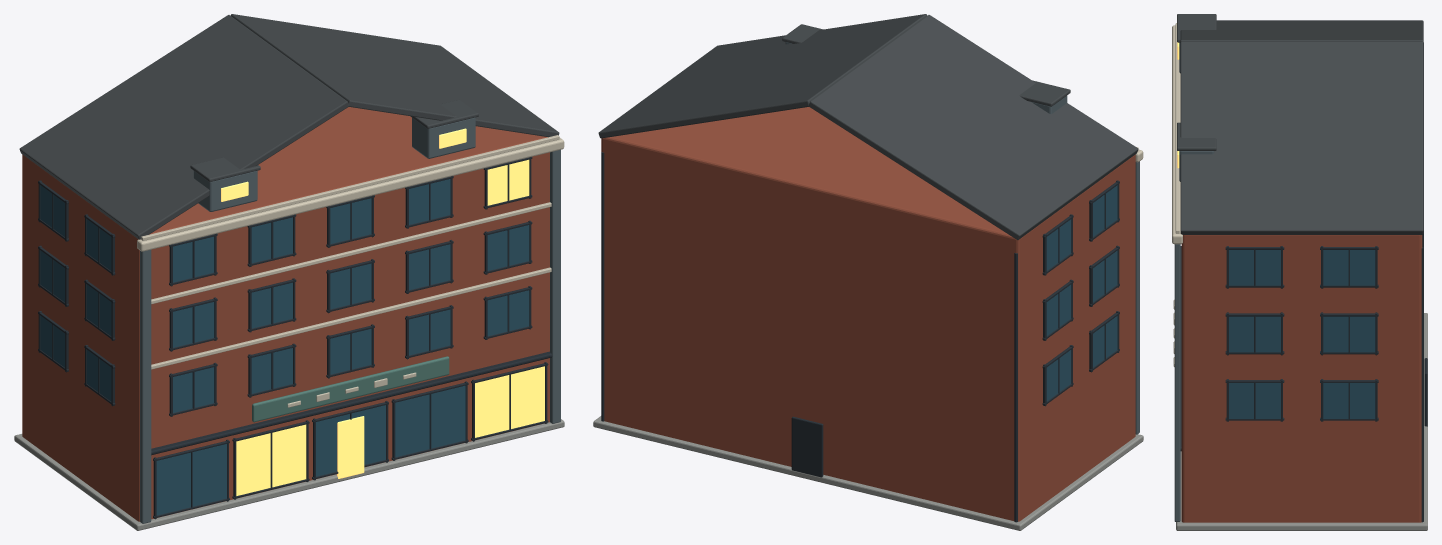
File: rorng_city_storefront_gabled_20x10.glb
The picture shows the model from 3 angles, left to right: view 1: azimuth 30°, elevation 25°; view 2: azimuth 150°, elevation 25°; view 3: azimuth 270°, elevation 25°; orthographic projection.
Parts seen in each view (by area): view 1: rorng_city_storefront_gabled_20x10_lod0; view 2: rorng_city_storefront_gabled_20x10_lod0; view 3: rorng_city_storefront_gabled_20x10_lod0.
Boxes of the visible parts, left/top/right/bottom form: rorng_city_storefront_gabled_20x10_lod0: left=14, top=14, right=564, bottom=530; rorng_city_storefront_gabled_20x10_lod0: left=593, top=14, right=1143, bottom=530; rorng_city_storefront_gabled_20x10_lod0: left=1172, top=14, right=1427, bottom=530.
Size of what is drawn, in the model's own units: 20.01 by 16.83 by 10.16.
